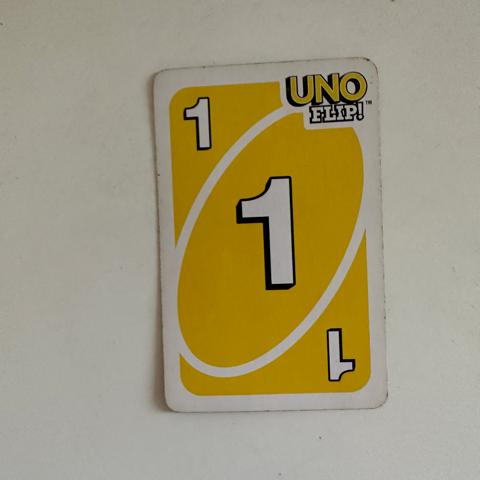5_red: (222, 166, 314, 295), (310, 310, 364, 382), (176, 91, 224, 155)
